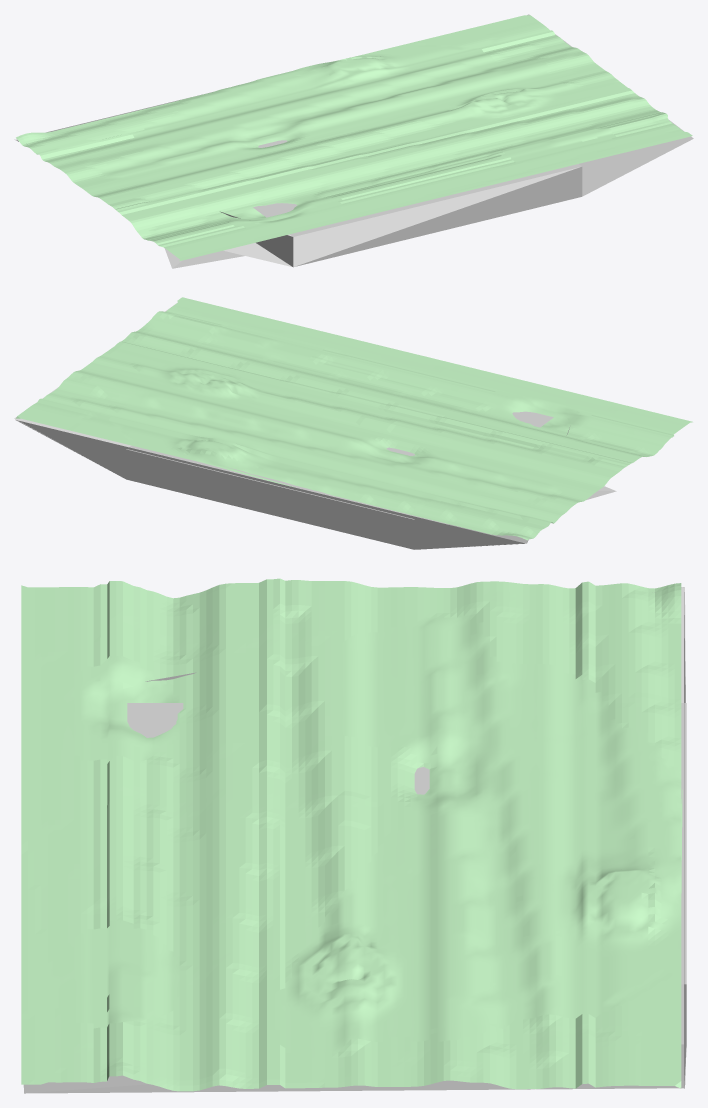
Rendered from map888.dae.
3 renders of one model, top to bottom at view 1: azimuth 30°, elevation 25°; view 2: azimuth 150°, elevation 25°; view 3: azimuth 270°, elevation 25°, orthographic. The views are drawn at different scales.
Parts seen in each view (by area): view 1: group_0.002, SketchUp; view 2: group_0.002, SketchUp; view 3: group_0.002, SketchUp.
Boxes of the visible parts, <box> form: group_0.002: <box>16,15,692,260</box>; SketchUp: <box>14,14,693,268</box>; group_0.002: <box>16,297,692,540</box>; SketchUp: <box>14,302,616,549</box>; group_0.002: <box>21,578,682,1091</box>; SketchUp: <box>23,587,686,1093</box>.
Bounding box in the file's own units: 35.78 × 20.01 × 3.68.
